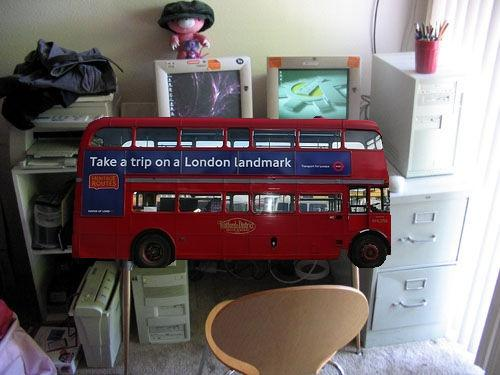tampered: (73, 117, 391, 268)
